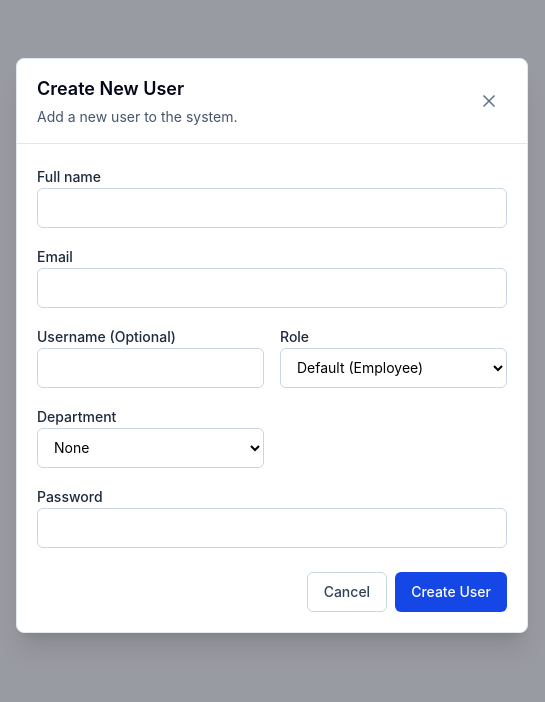
Test: CreateUserDialog › should show validation errors on empty submission
The image size is (545, 702).
What coordinates should you click on to do the following:
click the button "Create User"
I would click on:
 (451, 592)
Its box is [395, 572, 507, 612].
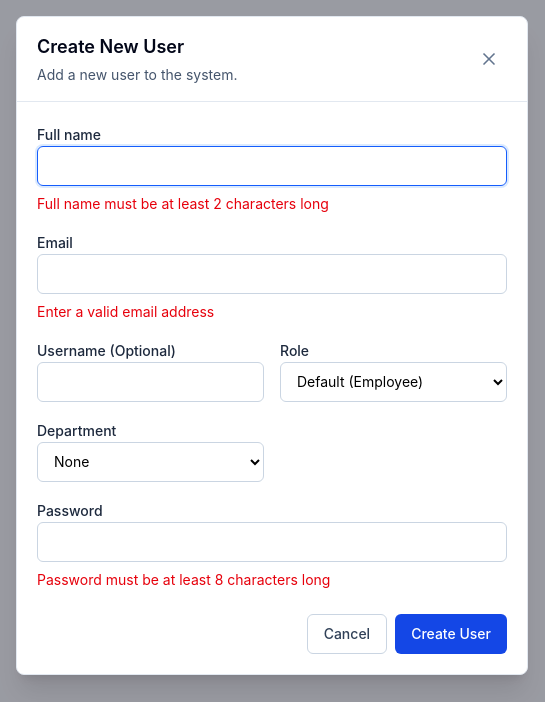
Check: the text "Full name must be at least 2 characters long" is shown, box [37, 194, 329, 212]
Check: the text "Enter a valid email address" is shown, box [37, 302, 214, 320]
Check: the text "Password must be at least 8 characters long" is shown, box [37, 570, 330, 588]
